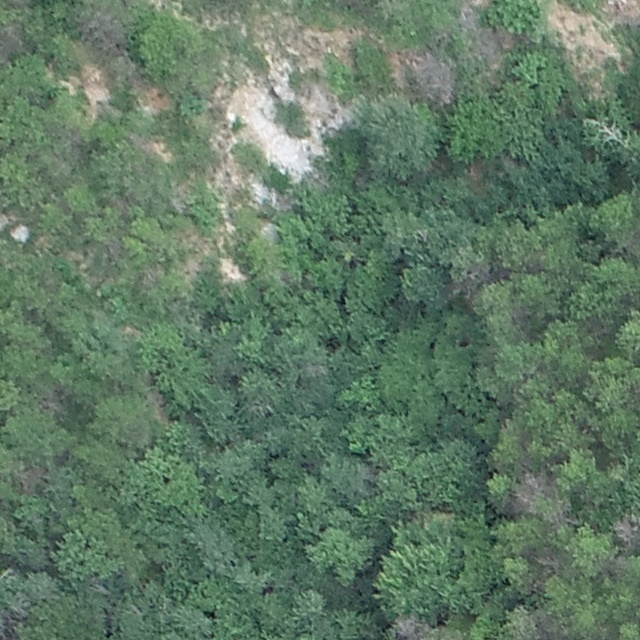unhealthy: (80, 7, 127, 54), (506, 471, 551, 516), (415, 59, 455, 107), (610, 516, 637, 554), (389, 613, 425, 640), (111, 54, 139, 87)
